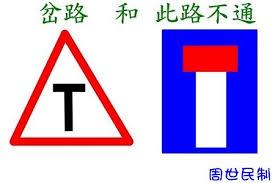fork_road: (8, 24, 135, 151)
